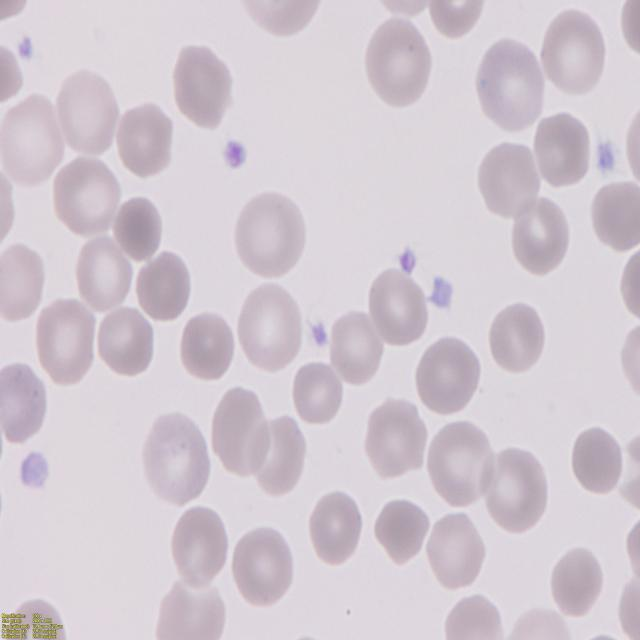Platelets: (426, 275, 454, 312), (592, 138, 620, 175)
RBC: (142, 404, 214, 508), (474, 32, 546, 134), (232, 188, 308, 281), (0, 86, 68, 188), (364, 14, 436, 110), (424, 416, 498, 508), (236, 278, 306, 372), (52, 65, 121, 159), (540, 8, 610, 100), (414, 334, 486, 422), (52, 152, 124, 238), (482, 446, 550, 536), (170, 41, 238, 129), (32, 298, 99, 386), (230, 524, 299, 609), (474, 136, 540, 224), (508, 192, 573, 279), (169, 505, 233, 591), (212, 382, 268, 480), (368, 262, 433, 346), (364, 396, 429, 479), (428, 506, 488, 592), (114, 99, 176, 178), (252, 414, 310, 496), (533, 111, 593, 190), (92, 306, 157, 378), (74, 234, 134, 312), (306, 488, 364, 566), (487, 298, 547, 373), (0, 361, 51, 446), (155, 579, 226, 640), (180, 310, 237, 384), (550, 542, 606, 617), (329, 306, 384, 382), (134, 249, 193, 318), (372, 494, 430, 564), (586, 178, 640, 252), (0, 239, 47, 324), (288, 360, 344, 424), (442, 590, 512, 640), (236, 0, 329, 37), (425, 0, 491, 37), (504, 608, 578, 640)
Spherocyte: (569, 420, 627, 493), (114, 193, 164, 264)
